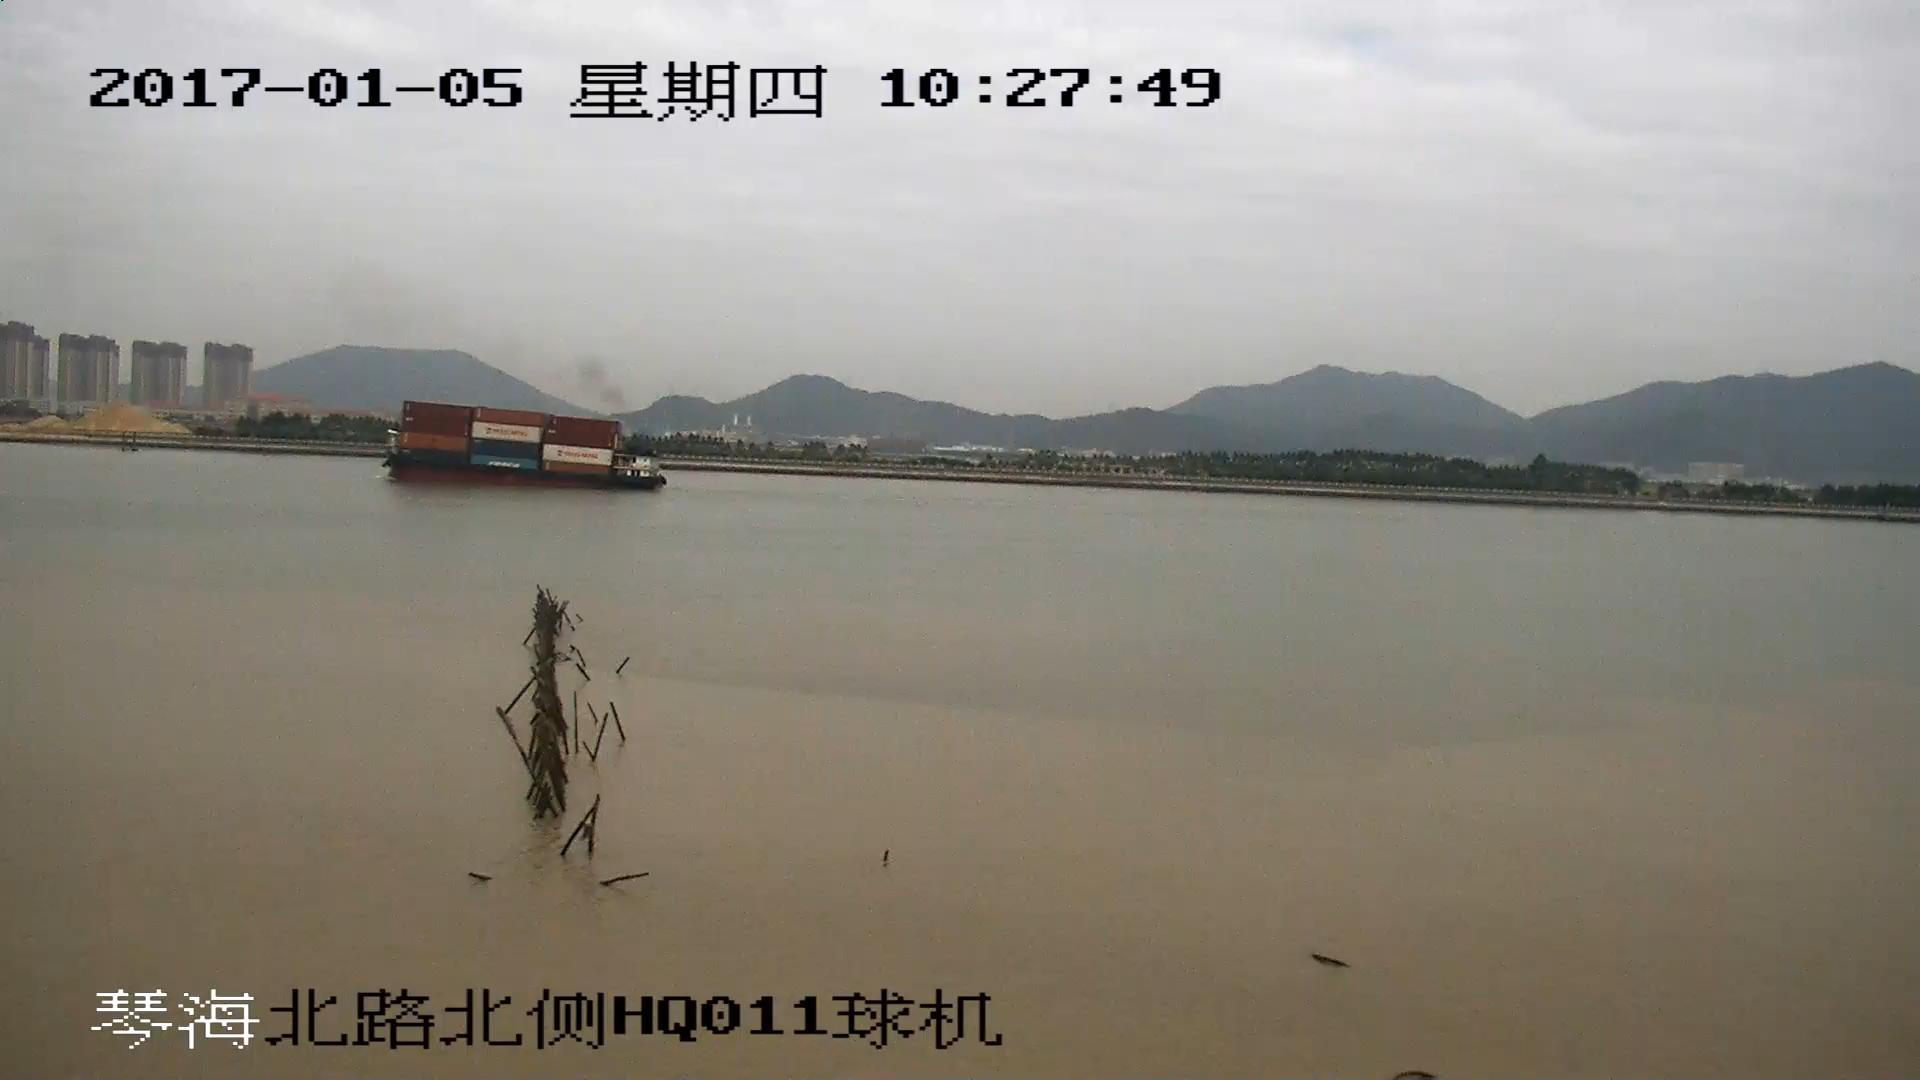Ship: (384, 400, 667, 491)
